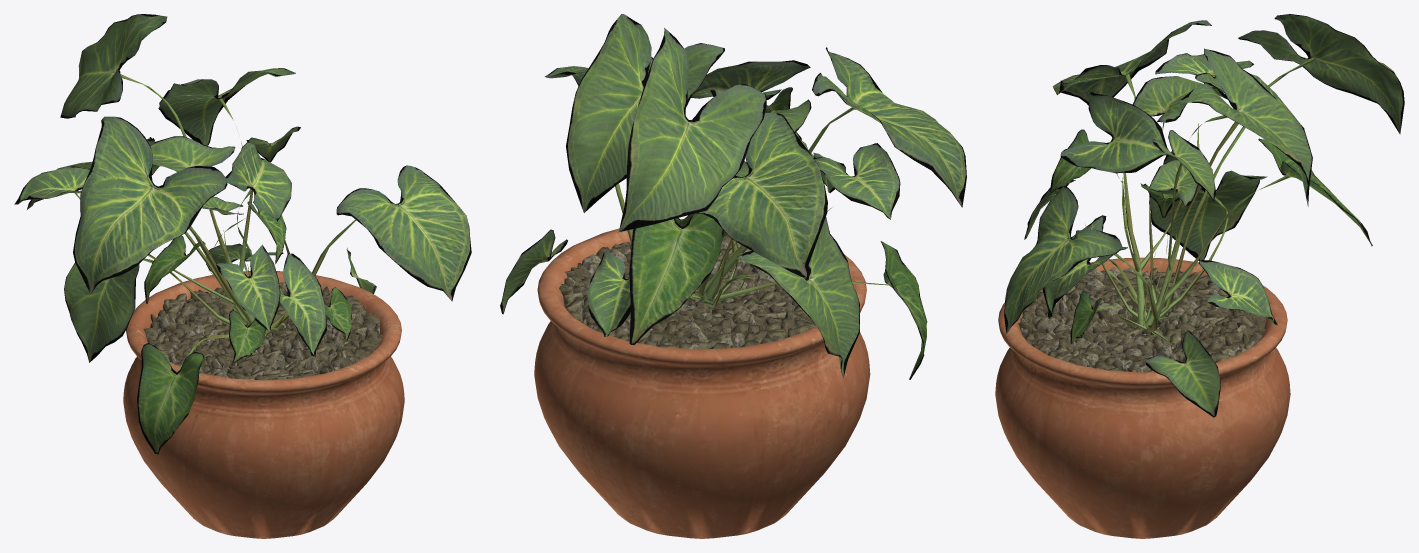
File: potted_plant_02_lite.glb
The picture shows the model from 3 angles, left to right: view 1: azimuth 30°, elevation 25°; view 2: azimuth 150°, elevation 25°; view 3: azimuth 270°, elevation 25°; orthographic projection. The views are drawn at different scales.
Parts seen in each view (by area): view 1: potted_plant_02_leaves, potted_plant_02_pot; view 2: potted_plant_02_leaves, potted_plant_02_pot; view 3: potted_plant_02_pot, potted_plant_02_leaves.
Boxes of the visible parts, x1,y1,x2,y2 form: potted_plant_02_leaves: [14, 14, 471, 454]; potted_plant_02_pot: [123, 271, 404, 538]; potted_plant_02_leaves: [500, 14, 966, 379]; potted_plant_02_pot: [534, 219, 870, 538]; potted_plant_02_pot: [995, 257, 1290, 538]; potted_plant_02_leaves: [1004, 14, 1404, 417].
Size of the model in its own units: 0.7009 by 0.8401 by 0.6574.
Materials: 2 (2 with a texture image).
